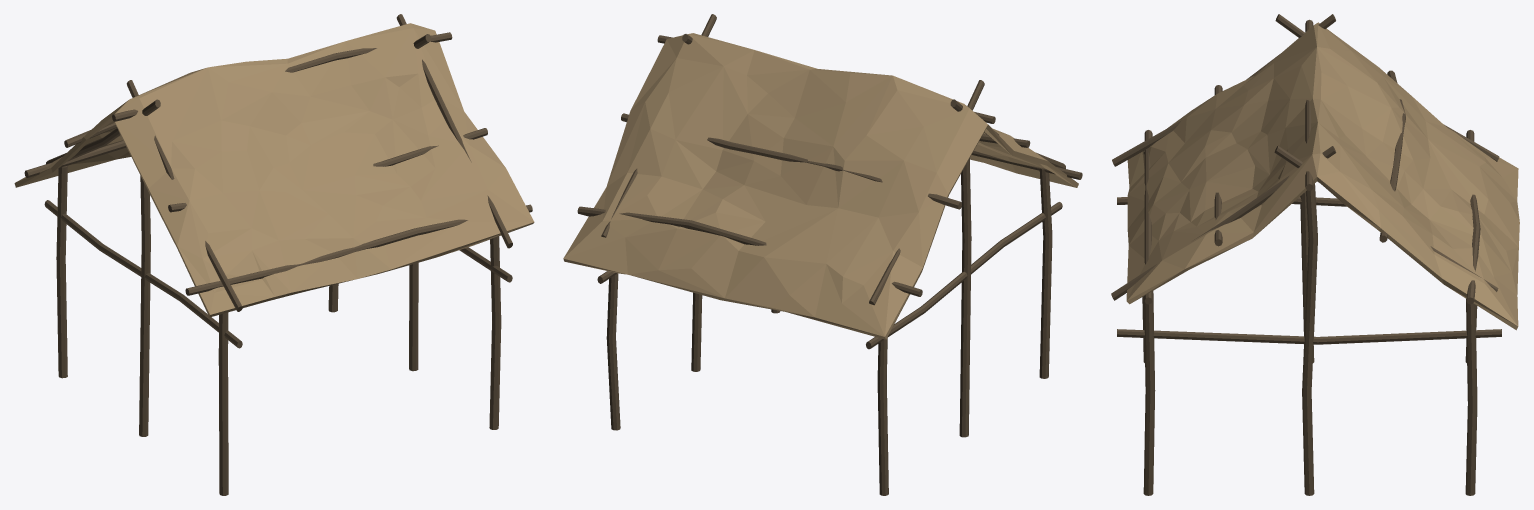
File: stable_c.FBX
3 renders of one model, left to right at view 1: azimuth 30°, elevation 25°; view 2: azimuth 150°, elevation 25°; view 3: azimuth 270°, elevation 25°, orthographic.
Visible parts, largest first — view 1: stable_c; view 2: stable_c; view 3: stable_c.
Part boxes in pixels (x1,y1,x2,y2): stable_c: (14,14,534,495); stable_c: (563,14,1082,495); stable_c: (1111,14,1519,495).
Size of the model in its own units: 5.38 by 5.22 by 5.55.
